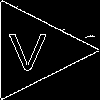V: (8, 25, 46, 70)
